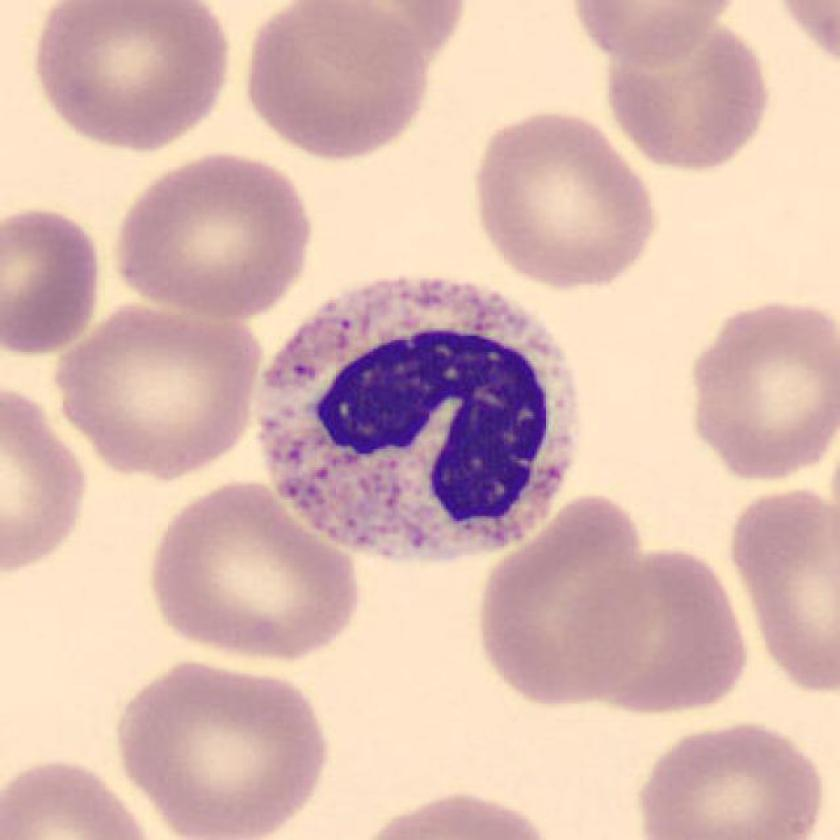neutrophil: (256, 282, 581, 567)
